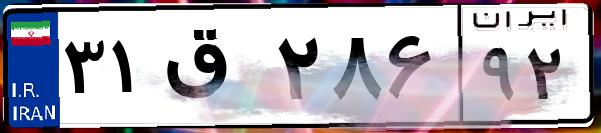1: (110, 28, 158, 98)
2: (270, 28, 330, 110), (525, 38, 570, 115)
3: (57, 26, 110, 100)
6: (385, 28, 445, 110)
8: (330, 28, 385, 110)
9: (475, 38, 525, 113)
ق: (158, 20, 270, 120)
